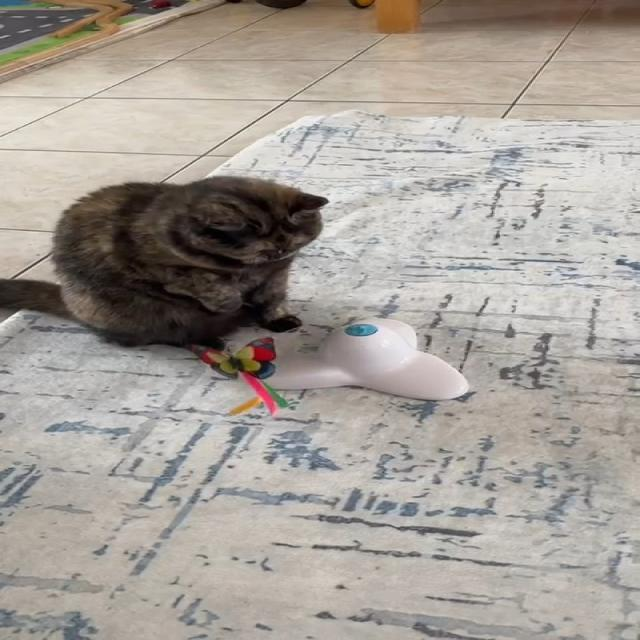authorized: (0, 174, 329, 349)
